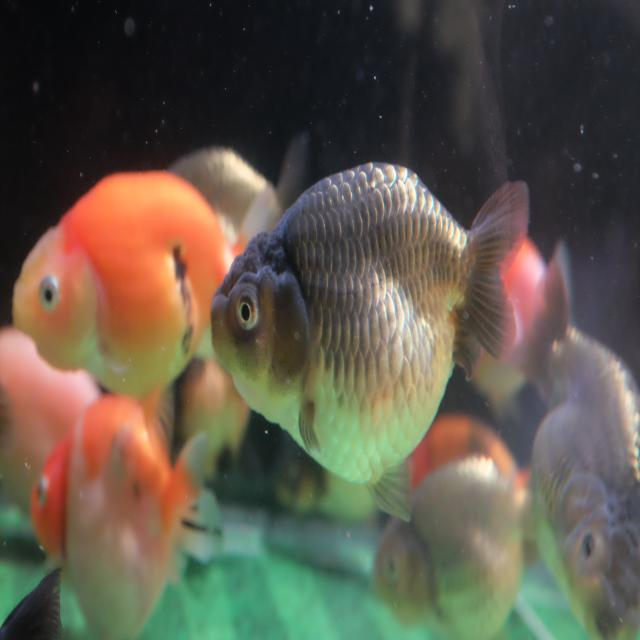Tilapia: (209, 160, 530, 528), (11, 166, 280, 405), (31, 388, 224, 640), (534, 319, 640, 640), (371, 452, 537, 638)
